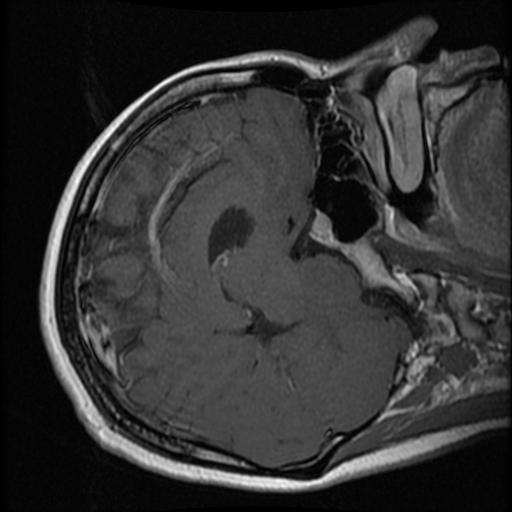pituitary tumour: (311, 211, 337, 248)
